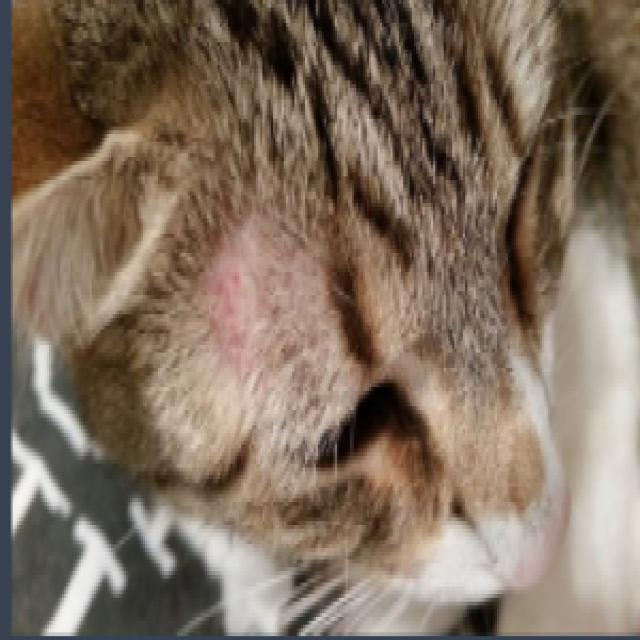hac lao: (171, 192, 300, 400)
